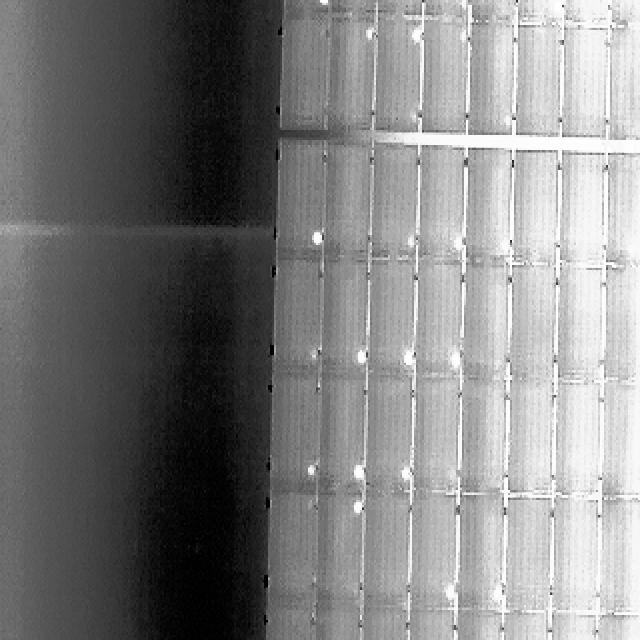Hotspots: (397, 463, 415, 487), (447, 346, 463, 372), (352, 460, 368, 485), (544, 0, 566, 18), (399, 348, 417, 369), (488, 584, 505, 606), (402, 228, 420, 248), (353, 344, 368, 368), (444, 579, 459, 603), (302, 494, 319, 515), (304, 458, 318, 481), (411, 24, 424, 48), (312, 223, 324, 249), (353, 496, 367, 516), (308, 342, 320, 365), (456, 30, 469, 50), (363, 24, 376, 44), (501, 112, 514, 131), (456, 0, 470, 15), (550, 0, 564, 15), (499, 234, 509, 254), (452, 232, 463, 250), (314, 0, 332, 10)
PV-modules: (456, 494, 504, 638), (453, 488, 507, 614), (362, 372, 416, 496), (270, 368, 323, 494), (361, 486, 414, 609), (272, 256, 326, 374), (267, 485, 319, 606), (314, 487, 366, 608), (320, 255, 371, 378), (408, 490, 460, 610), (506, 378, 557, 500), (328, 10, 378, 130), (366, 258, 414, 382), (278, 138, 326, 262), (280, 12, 331, 128), (506, 498, 555, 618), (415, 256, 464, 376), (369, 143, 418, 262), (463, 258, 510, 381), (466, 146, 514, 265), (418, 145, 466, 264), (516, 24, 566, 138), (468, 21, 517, 137), (560, 23, 609, 139), (509, 265, 558, 381), (516, 148, 564, 266), (324, 142, 372, 260), (375, 13, 421, 136), (458, 374, 505, 494), (421, 16, 468, 135), (555, 266, 601, 387), (551, 497, 597, 618), (559, 152, 607, 267), (415, 374, 459, 495), (551, 382, 597, 497), (323, 373, 366, 490), (600, 498, 640, 618), (600, 380, 640, 498), (602, 265, 640, 387), (608, 150, 640, 268), (608, 25, 640, 140), (264, 600, 314, 640), (312, 600, 362, 640), (360, 605, 412, 640), (407, 607, 459, 640), (549, 612, 608, 640), (504, 612, 552, 640), (594, 612, 640, 638), (520, 0, 566, 25), (470, 0, 514, 25), (562, 0, 608, 22), (282, 0, 336, 18), (330, 0, 382, 18), (610, 0, 640, 30), (420, 0, 466, 18), (378, 0, 424, 15)
